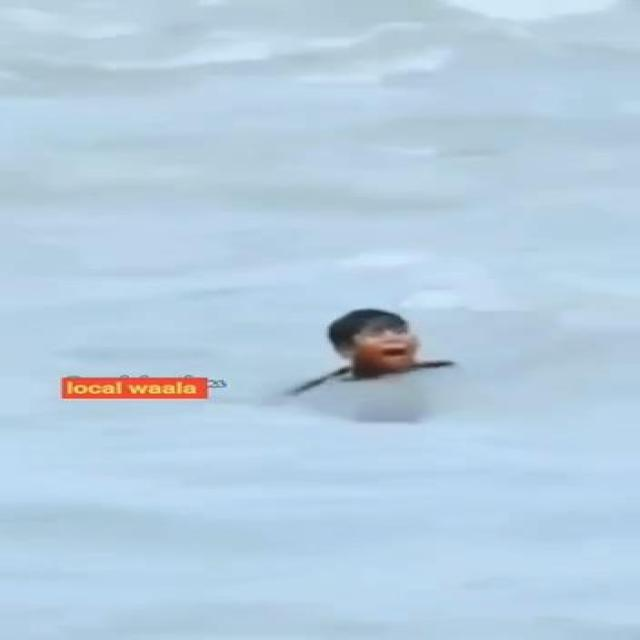Out of Water: (301, 306, 455, 397)
